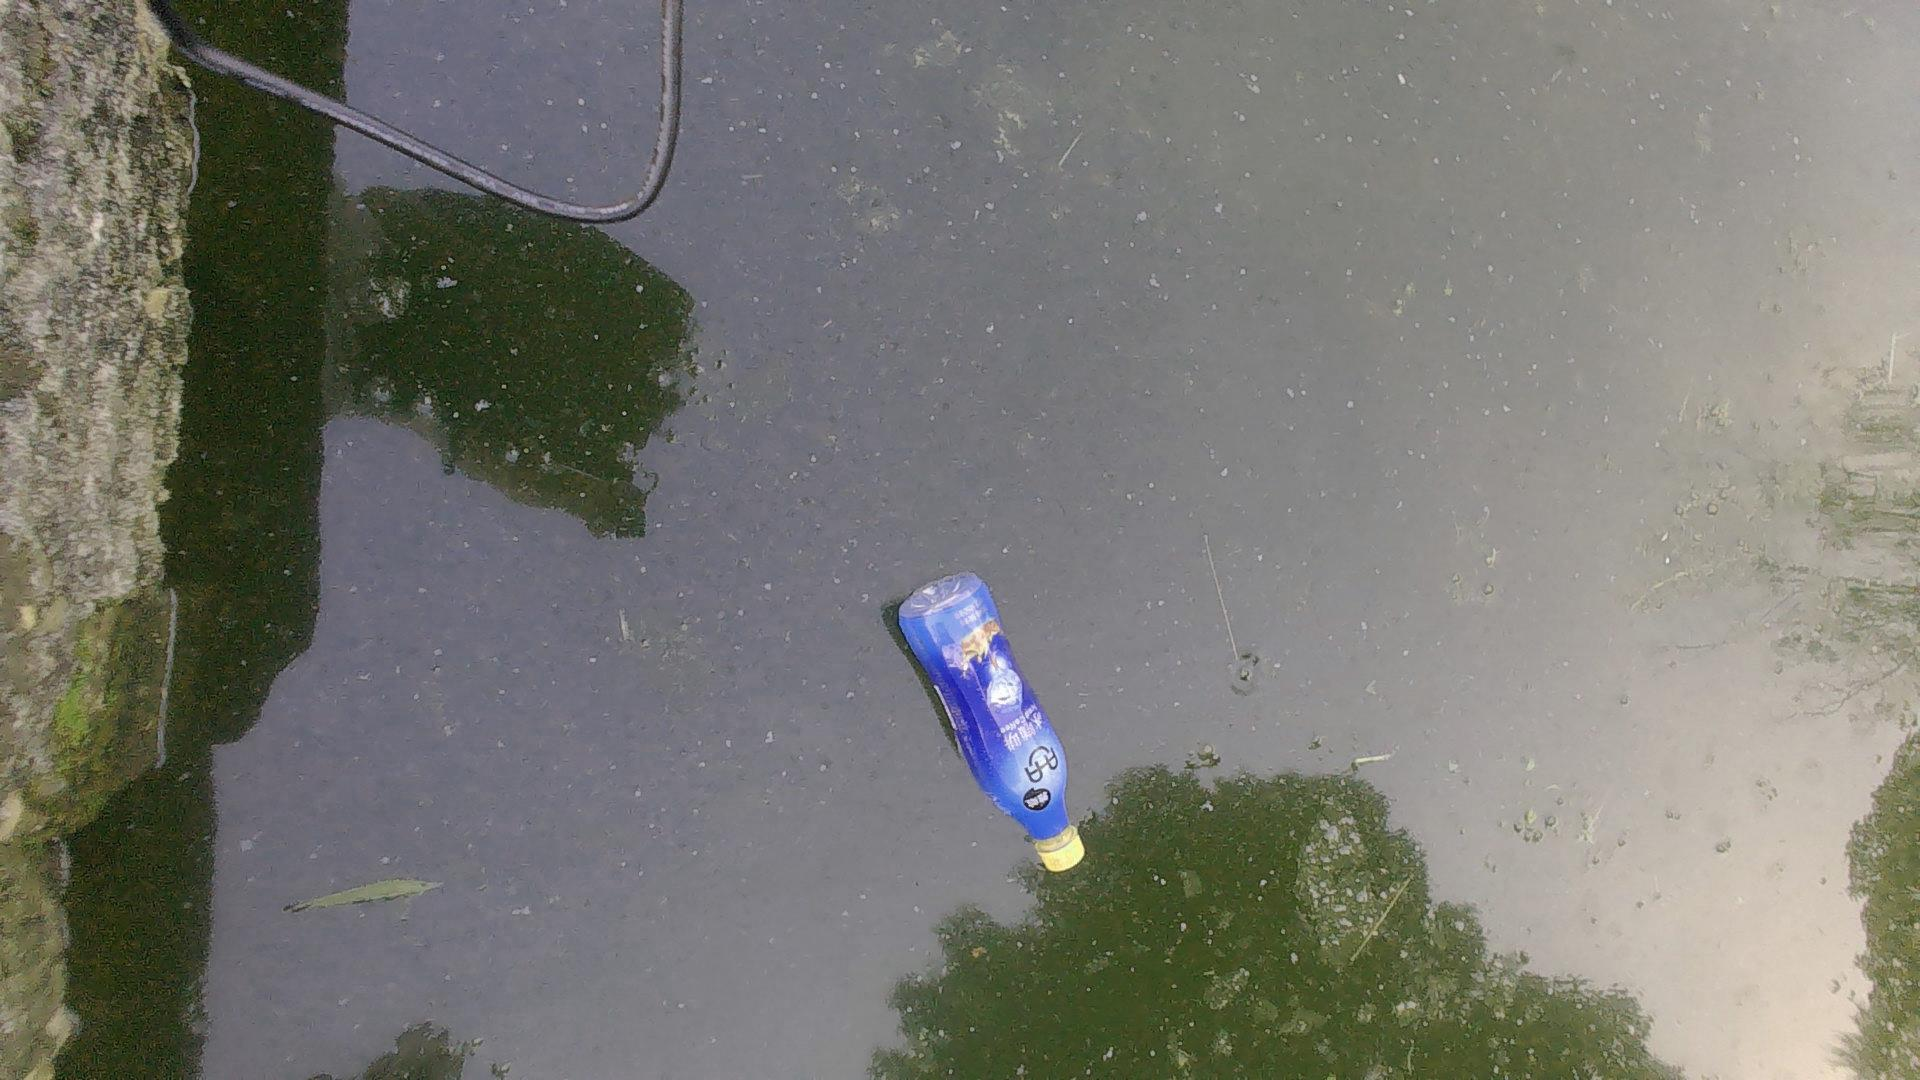Plastic: (891, 572, 1097, 881)
